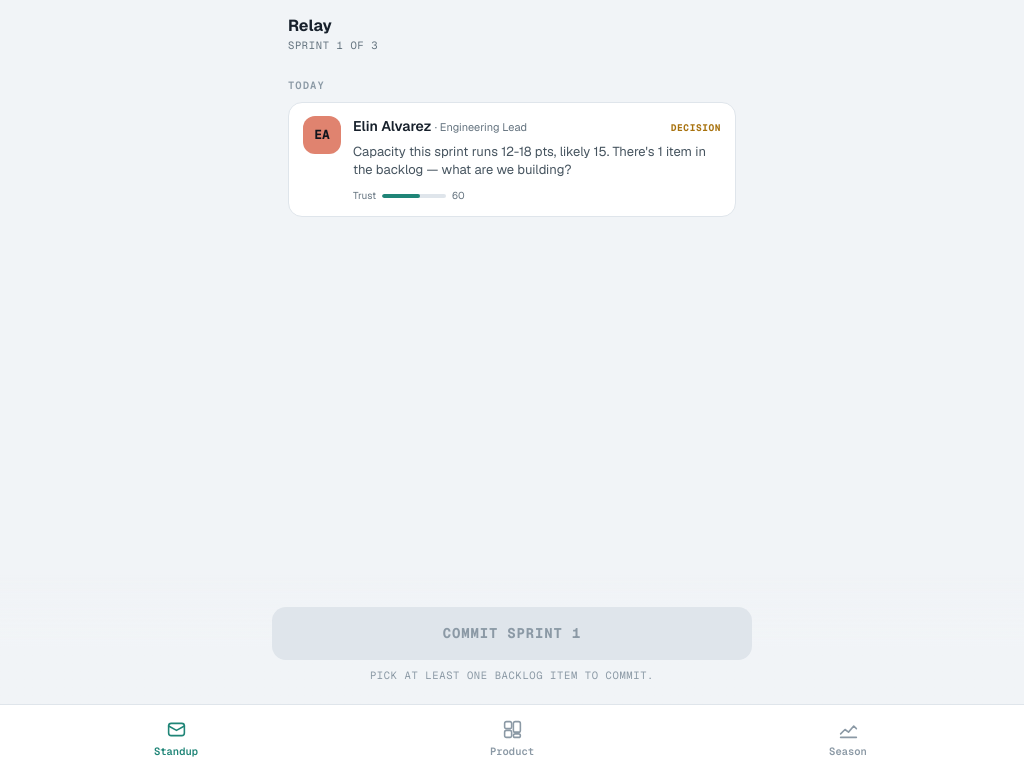
Test: SimTabs › switches to the Product tab and renders the metric tiles + district map
The image size is (1024, 768).
Click the tab "Product": (512, 740) [344, 713, 680, 767]
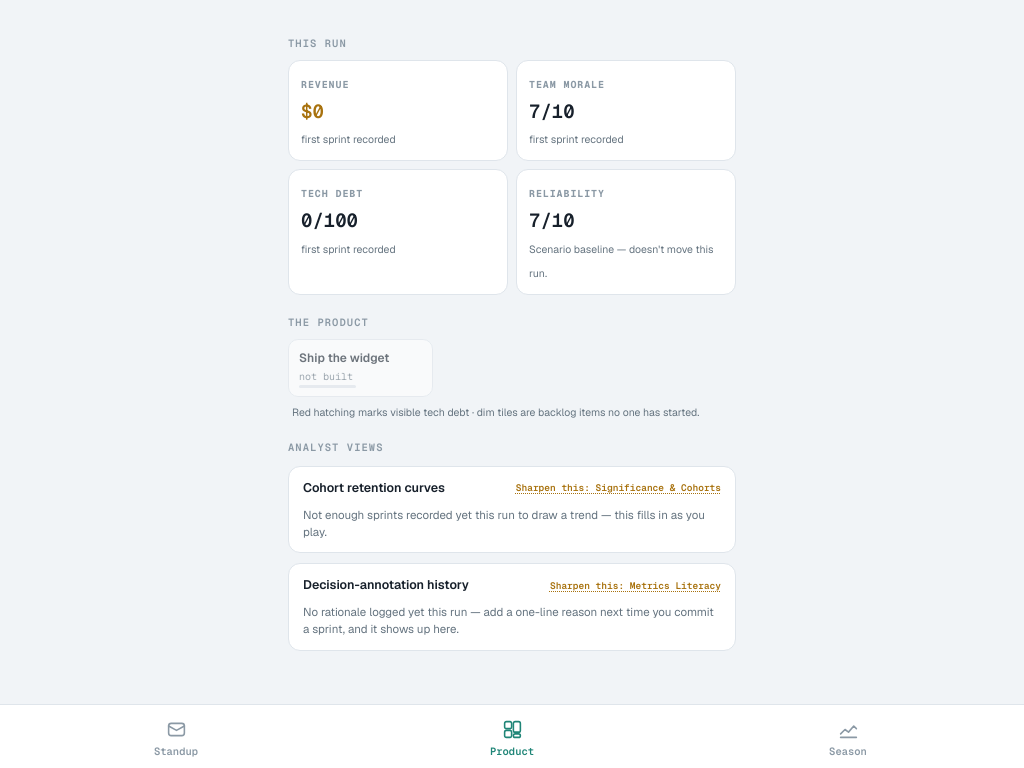
Check: the text "Revenue" is shown, box [301, 78, 349, 91]
Check: the text "Team morale" is shown, box [529, 78, 605, 91]
Check: the text "Tech debt" is shown, box [301, 187, 363, 200]
